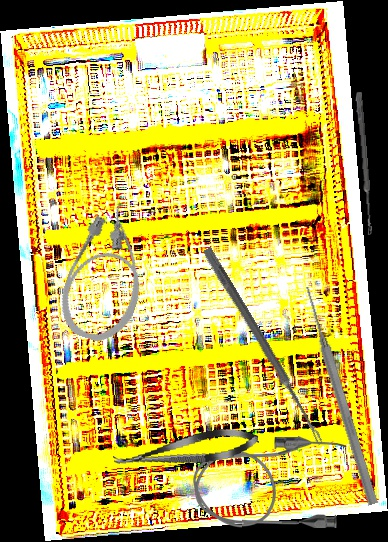Cannula: (50, 194, 167, 350), (192, 435, 348, 531)
Micro Scissor: (111, 423, 261, 477)
Pusher: (300, 284, 381, 507)
Surgical Spoon: (201, 246, 327, 447), (354, 91, 375, 236)
